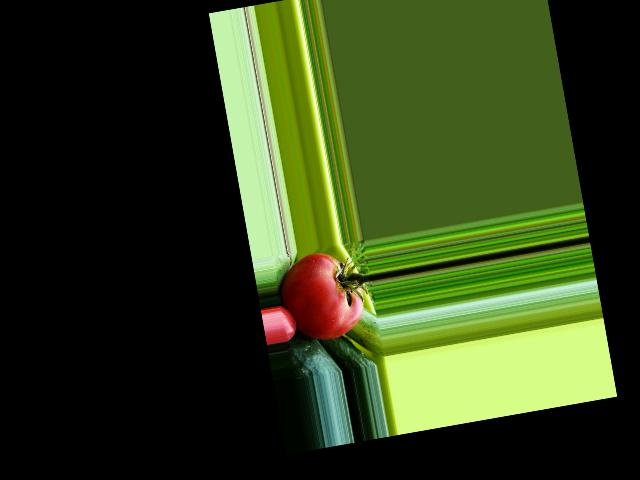tomato: (273, 246, 368, 346)
